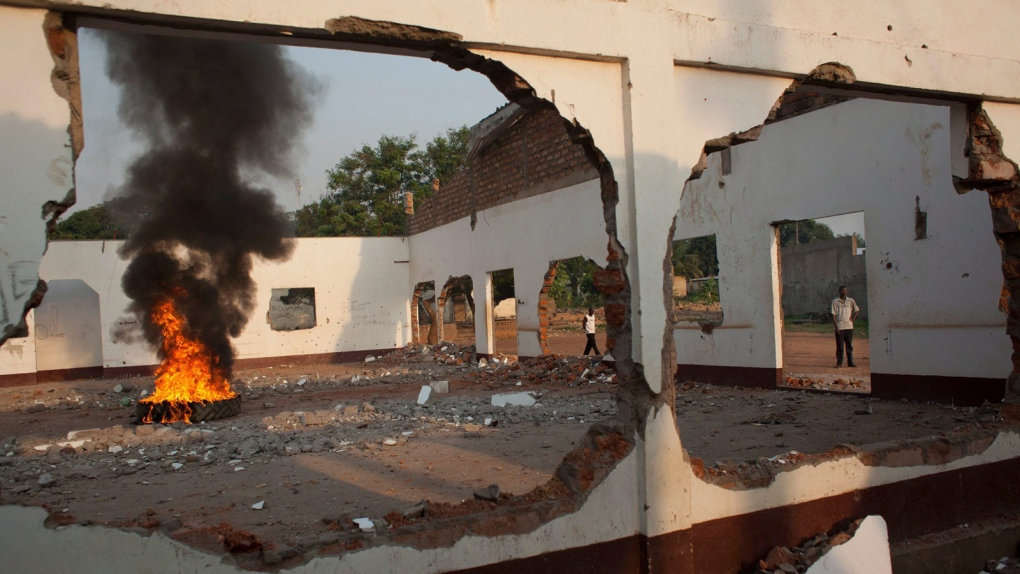fire: (148, 349, 230, 405)
smoke: (127, 40, 274, 293)
